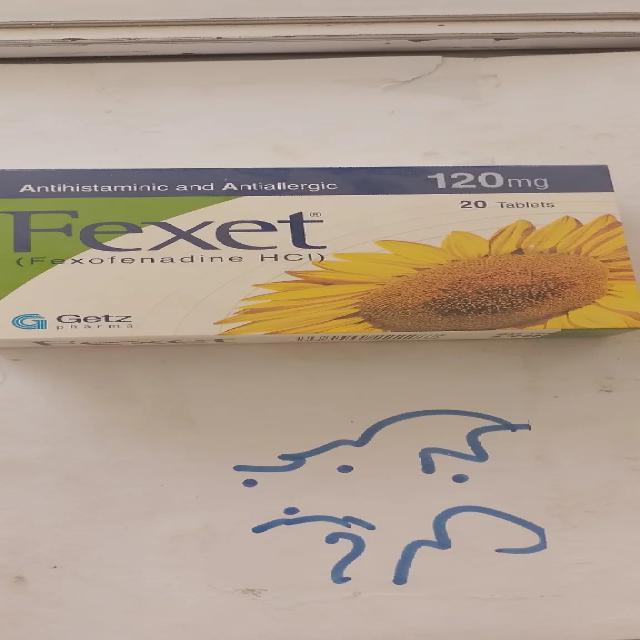drug-name: (0, 208, 333, 250)
